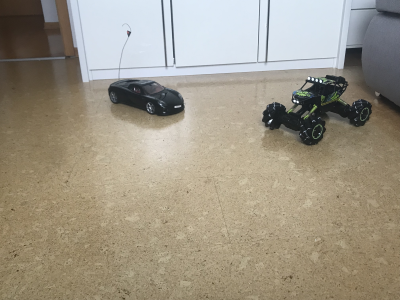remote control car: (258, 70, 373, 146)
